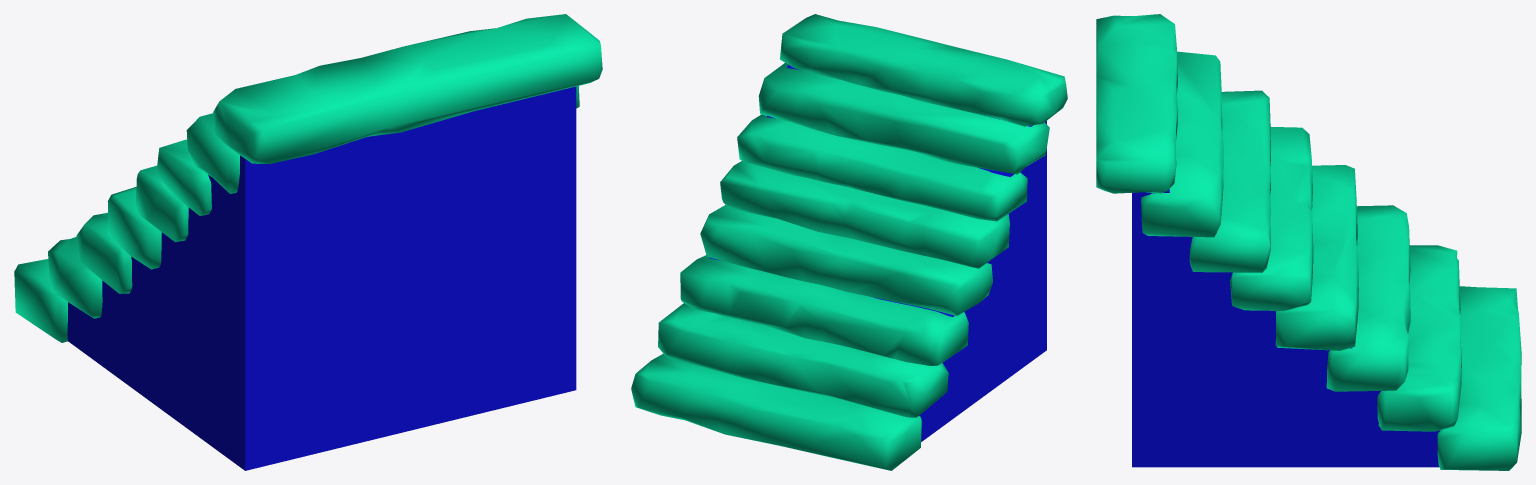
The model's file is StoneStairs2.fbx.
3 views of the same model, side by side, from view 1: azimuth 30°, elevation 25°; view 2: azimuth 150°, elevation 25°; view 3: azimuth 270°, elevation 25° (orthographic). The views are drawn at different scales.
Visible parts, largest first — view 1: StoneStair2; view 2: StoneStair2; view 3: StoneStair2.
Boxes of the visible parts, x1,y1,x2,y2 form: StoneStair2: (14,14,602,470); StoneStair2: (631,14,1067,470); StoneStair2: (1096,14,1521,470).
Size of what is drawn, in the model's own units: 1.61 by 1.59 by 1.94.
